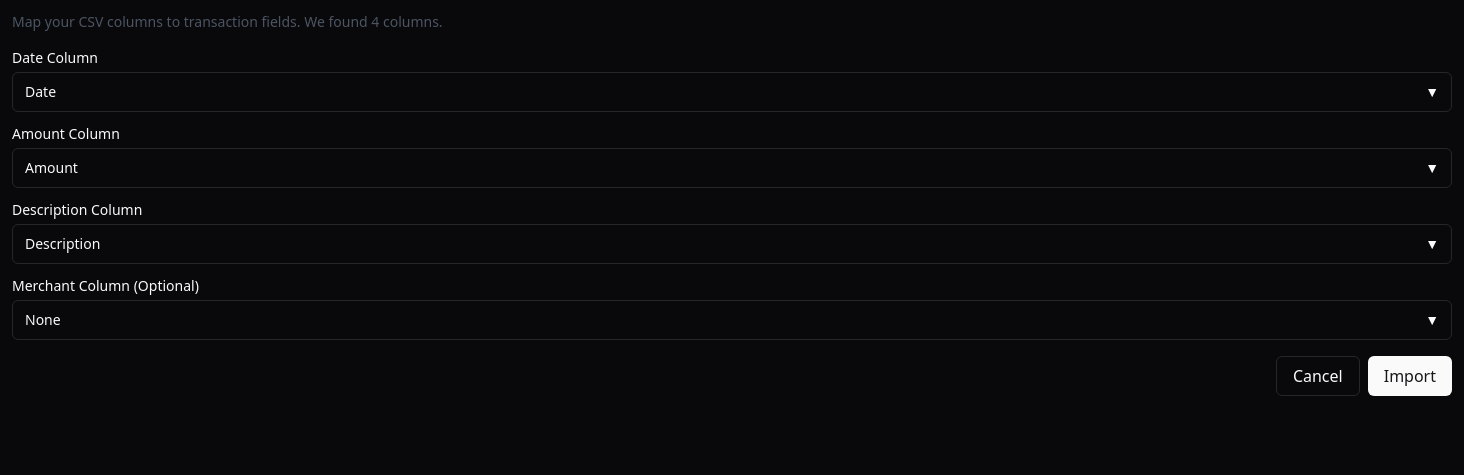
Test case: ColumnMappingForm › Edge Cases › should handle duplicate detection in import result
The width and height of the screenshot is (1464, 475).
Click the button "Import".
click(1410, 376)  # box [1368,356,1452,396]
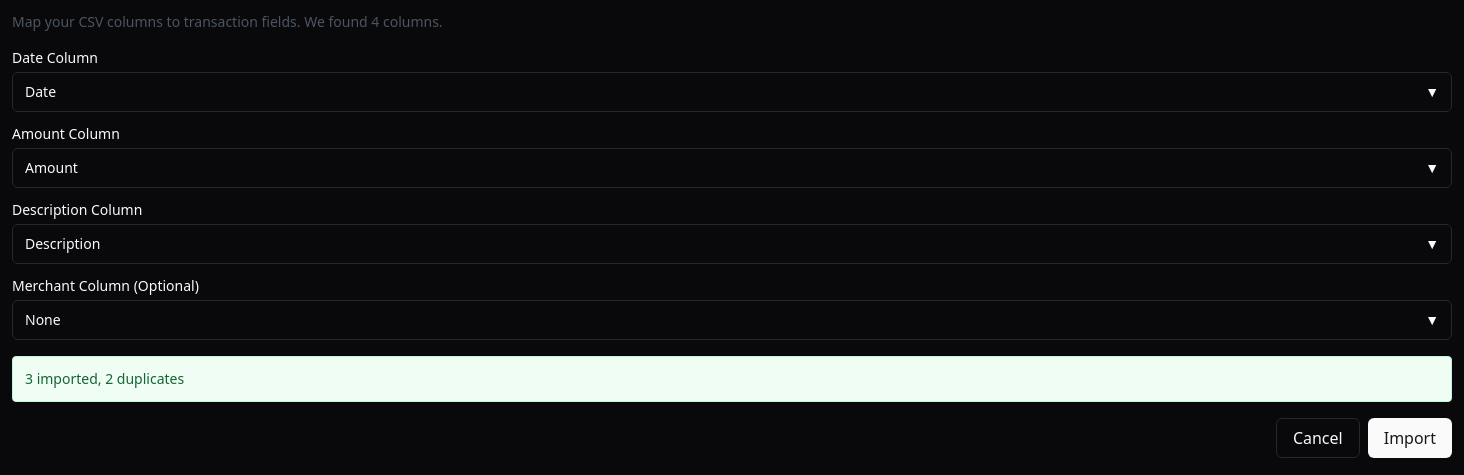
Check: the text "3 imported, 2 duplicates" is shown, box [12,356,1452,402]
